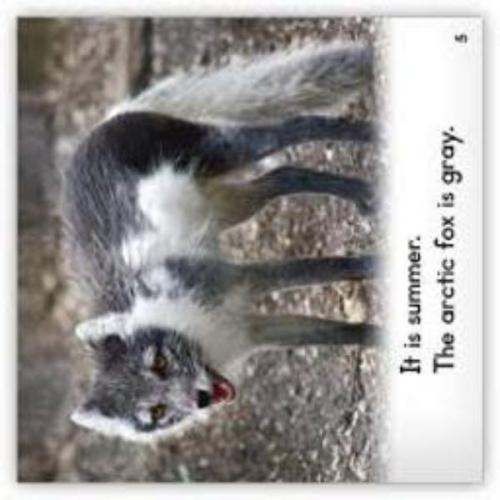arctic_fox-endangered: (57, 43, 369, 443)
